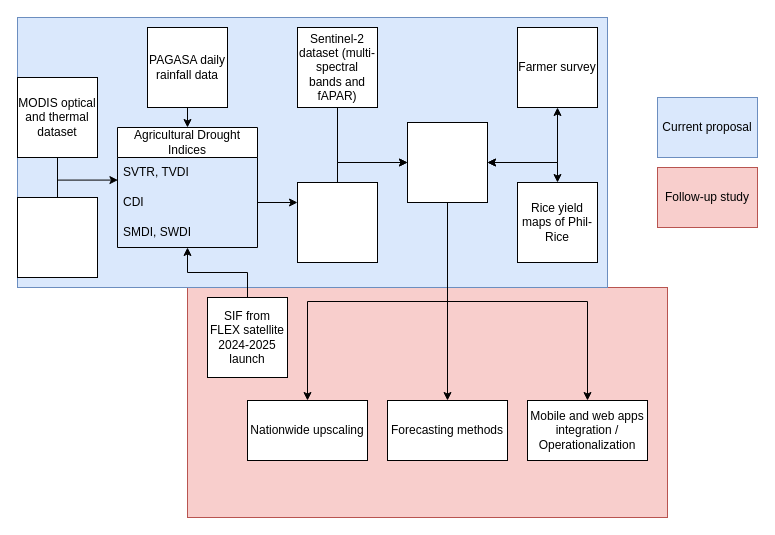
The diagram is 775 pixels wide and 535 high, and some of its shapes have lost their labels. Here are the shapes that lost their labels. From the top down, the centre of each, then its label:
At [447,162]: "AIID high-resolution".
At [57,237]: "SMAP soil moisture dataset".
At [337,222]: "AIID coarse".
